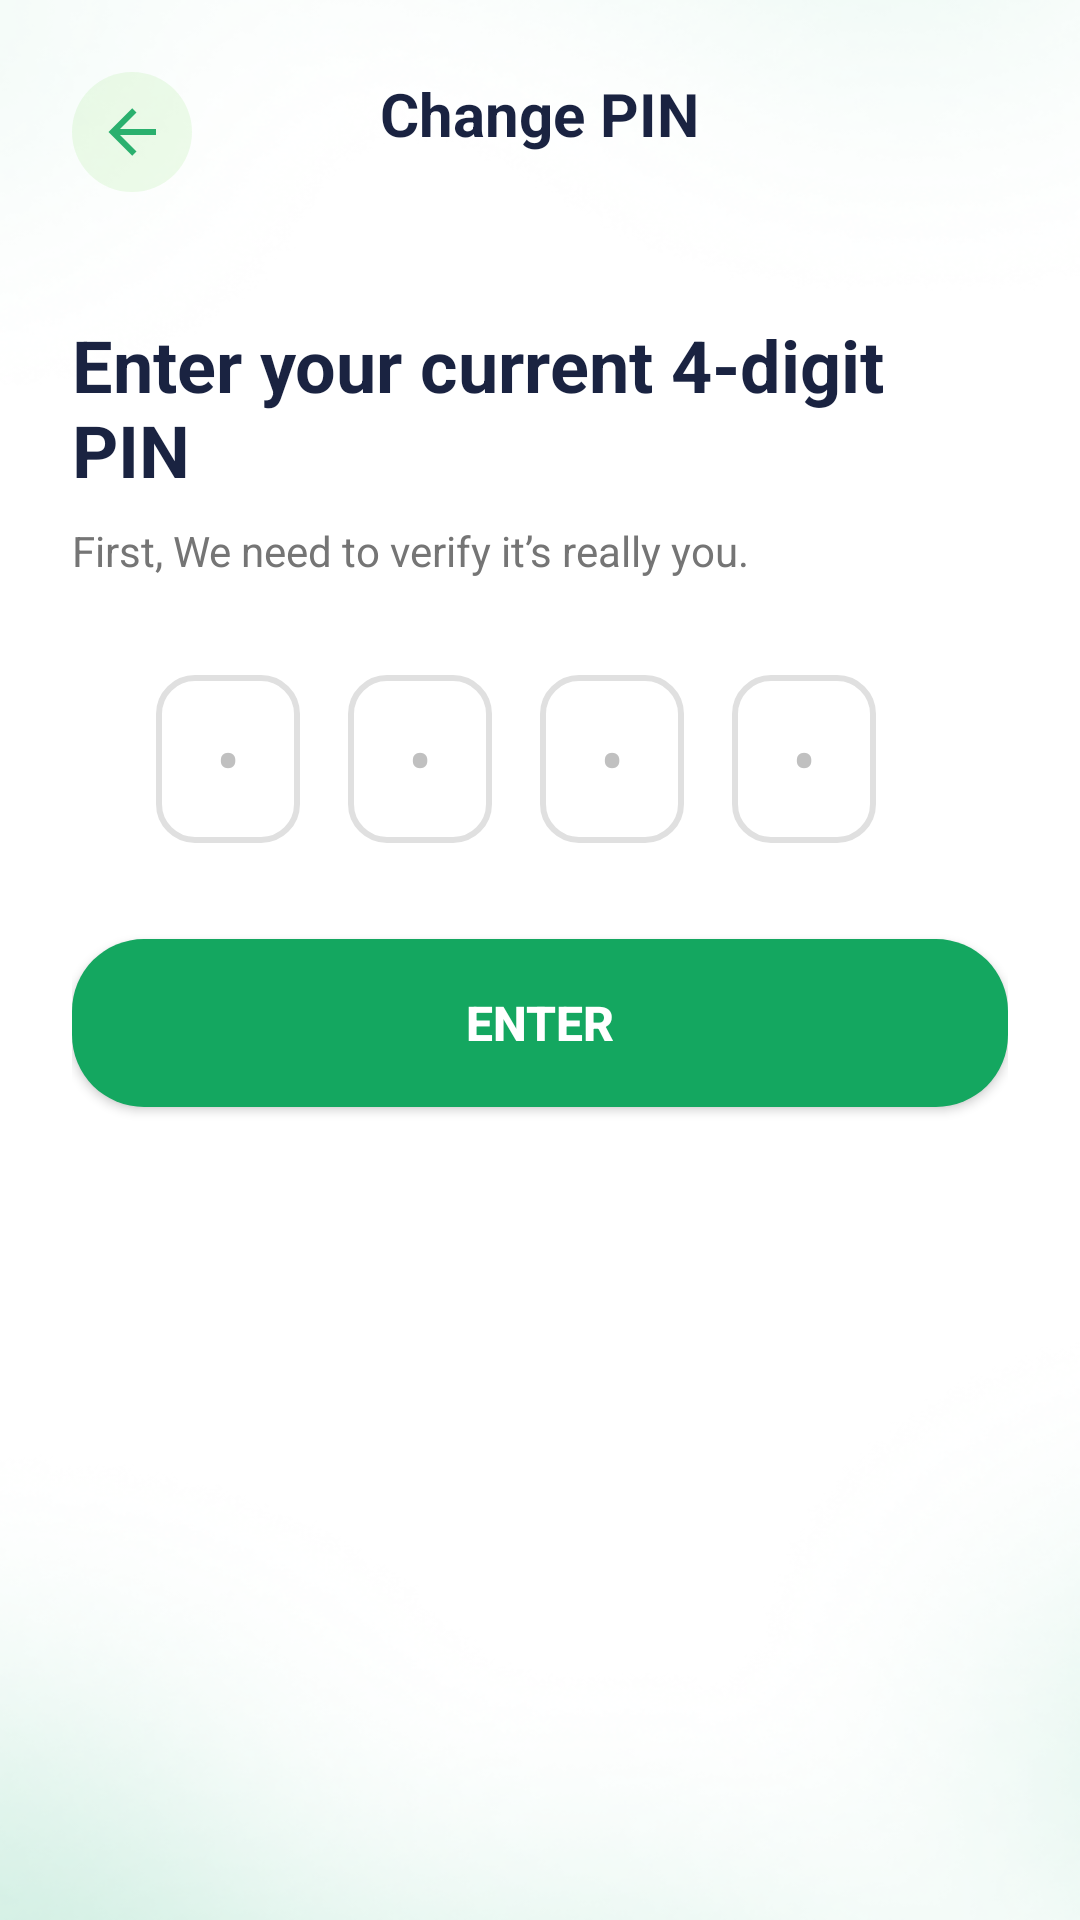

Screen size 1080px x 1920px. Icon name, then its center in pixels as (x=x, y=y):
Back: (x=132, y=132)
